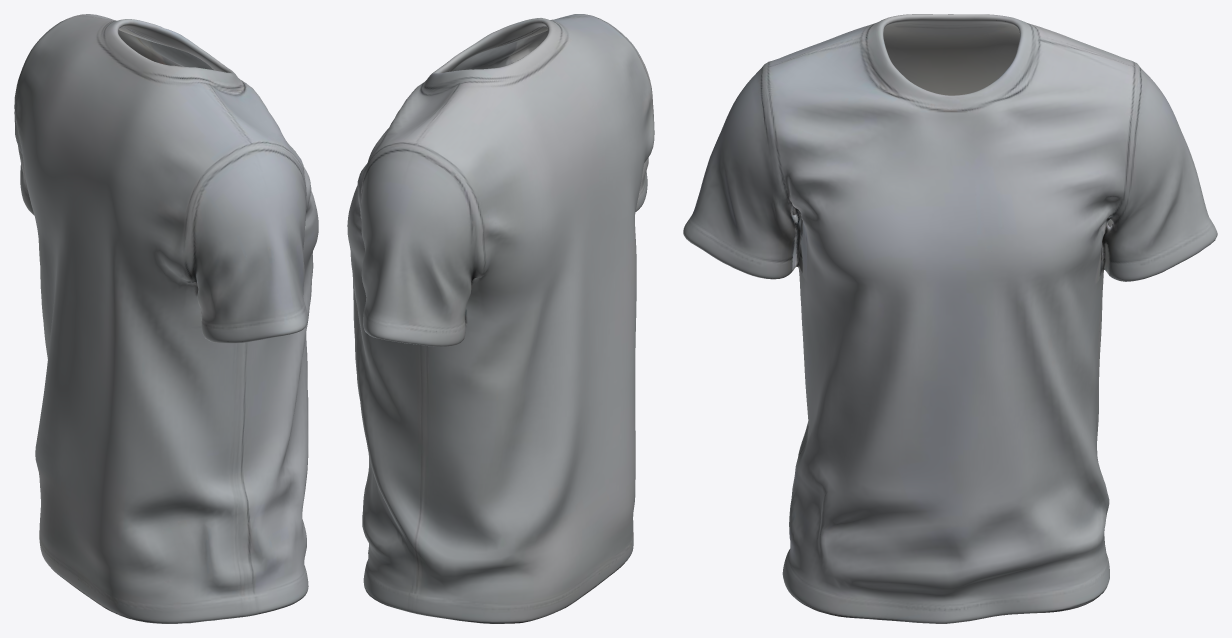
File: shirt.glb
3 views of the same model, side by side, from view 1: azimuth 30°, elevation 25°; view 2: azimuth 150°, elevation 25°; view 3: azimuth 270°, elevation 25° (orthographic). The views are drawn at different scales.
Visible parts, largest first — view 1: tripo_node_5b14b591-d683-4912-9ef6-636a97119082; view 2: tripo_node_5b14b591-d683-4912-9ef6-636a97119082; view 3: tripo_node_5b14b591-d683-4912-9ef6-636a97119082.
Part boxes in pixels (left/top/right/bottom): tripo_node_5b14b591-d683-4912-9ef6-636a97119082: left=14, top=14, right=318, bottom=623; tripo_node_5b14b591-d683-4912-9ef6-636a97119082: left=347, top=14, right=654, bottom=623; tripo_node_5b14b591-d683-4912-9ef6-636a97119082: left=683, top=14, right=1217, bottom=623.
Size of the model in its own units: 0.4005 by 0.9444 by 0.8326.
1 material, 1 textured.
